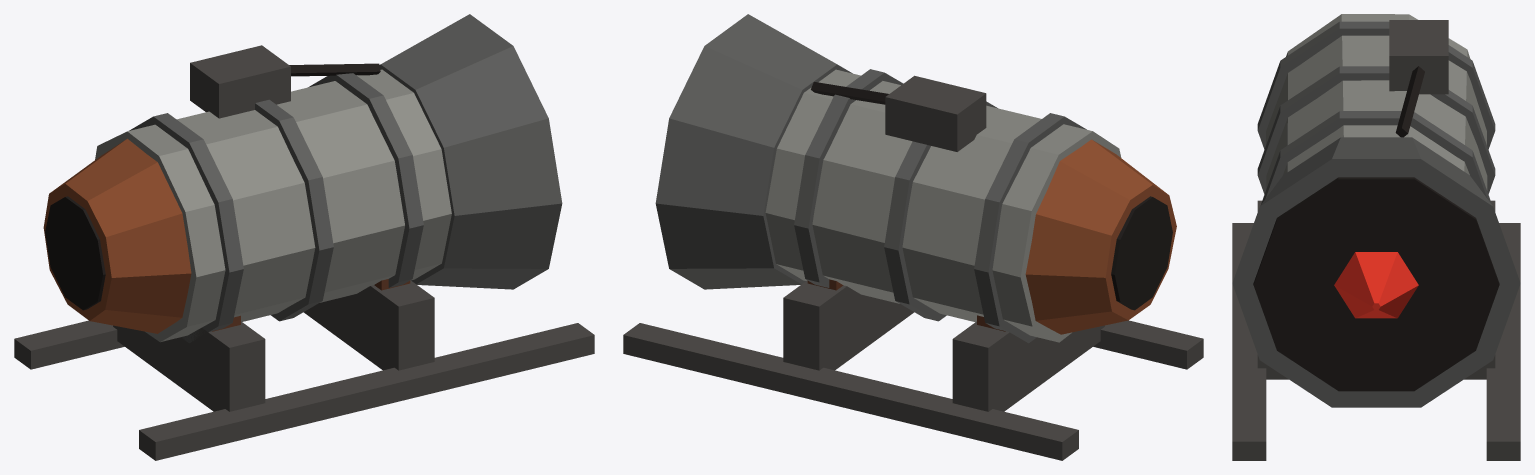
Rendered from eng_turbine.glb.
The picture shows the model from 3 angles, left to right: view 1: azimuth 30°, elevation 25°; view 2: azimuth 150°, elevation 25°; view 3: azimuth 270°, elevation 25°; orthographic projection. The views are drawn at different scales.
Visible parts, largest first — view 1: eng_turbine; view 2: eng_turbine; view 3: eng_turbine.
Boxes of the visible parts, <box> form: eng_turbine: <box>14,14,594,460</box>; eng_turbine: <box>623,14,1203,460</box>; eng_turbine: <box>1232,14,1520,460</box>.
Bounding box in the file's own units: 1.29 × 0.76 × 0.68.
